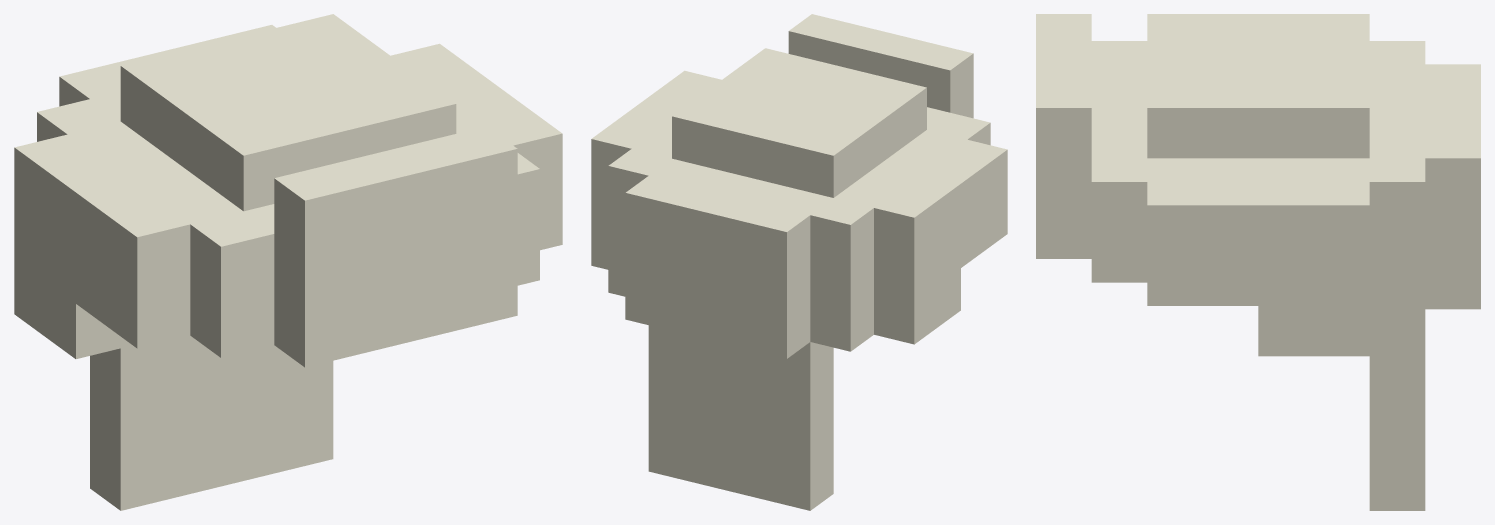
File: char-40-helm_lgt_1c_sh.obj
3 views of the same model, side by side, from view 1: azimuth 30°, elevation 25°; view 2: azimuth 150°, elevation 25°; view 3: azimuth 270°, elevation 25° (orthographic). The views are drawn at different scales.
Visible parts, largest first — view 1: helm_lgt_1c_sh; view 2: helm_lgt_1c_sh; view 3: helm_lgt_1c_sh.
Boxes of the visible parts, left/top/right/bottom form: helm_lgt_1c_sh: left=14, top=14, right=562, bottom=510; helm_lgt_1c_sh: left=591, top=14, right=1007, bottom=510; helm_lgt_1c_sh: left=1036, top=14, right=1480, bottom=510.
Bounding box in the file's own units: 0.8 × 0.8 × 0.8.
Materials: 1 (1 with a texture image).
